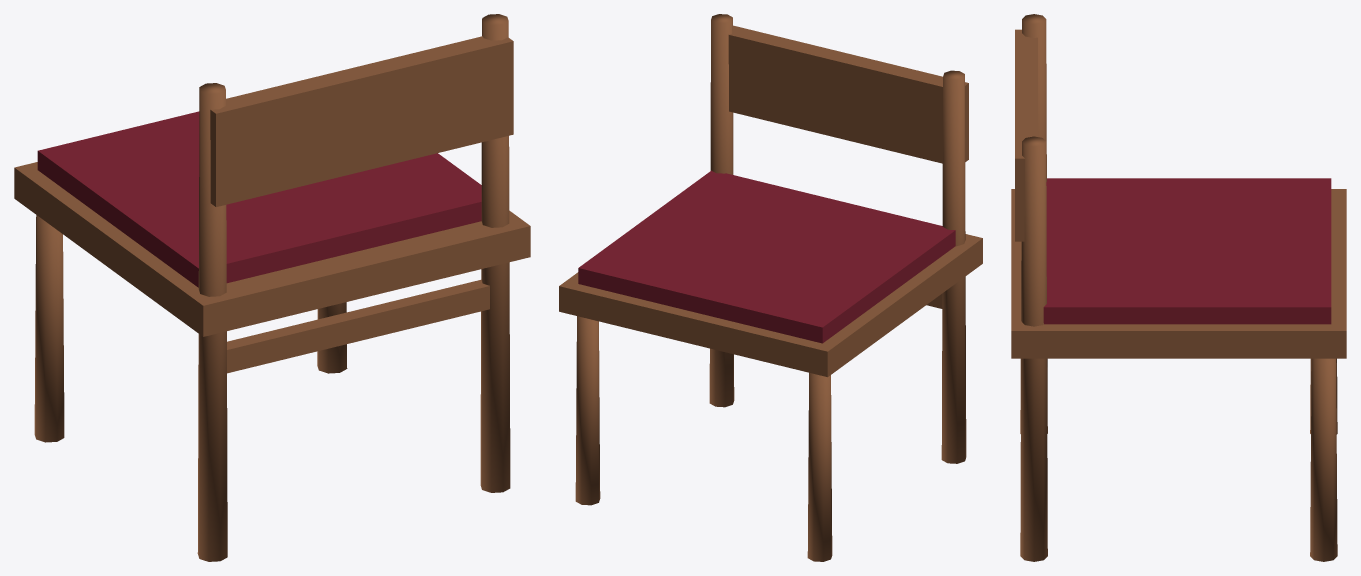
Rendered from SM_PRP_Cadeira.fbx.
The picture shows the model from 3 angles, left to right: view 1: azimuth 30°, elevation 25°; view 2: azimuth 150°, elevation 25°; view 3: azimuth 270°, elevation 25°; orthographic projection. The views are drawn at different scales.
Parts seen in each view (by area): view 1: SM_PRP_Cadeira; view 2: SM_PRP_Cadeira; view 3: SM_PRP_Cadeira.
Part boxes in pixels (box(x1,y1,x2,y2)): SM_PRP_Cadeira: box(14, 14, 530, 561); SM_PRP_Cadeira: box(559, 14, 982, 561); SM_PRP_Cadeira: box(1011, 14, 1346, 561).
Bounding box in the file's own units: 0.44 × 0.6 × 0.44.
